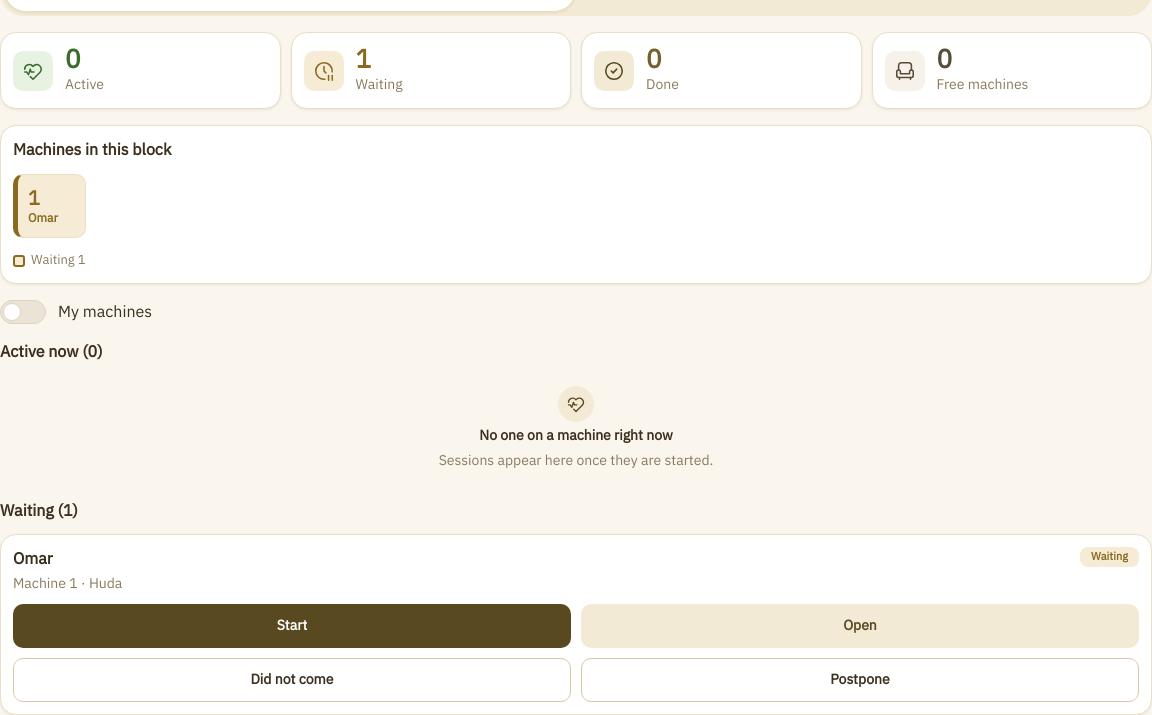
Test: BoardPage › Postpone posts and opens the make-up booking when the user may book one
(page scrolled)
Click the button "Postpone".
click(860, 680)  # box [581,658,1139,702]
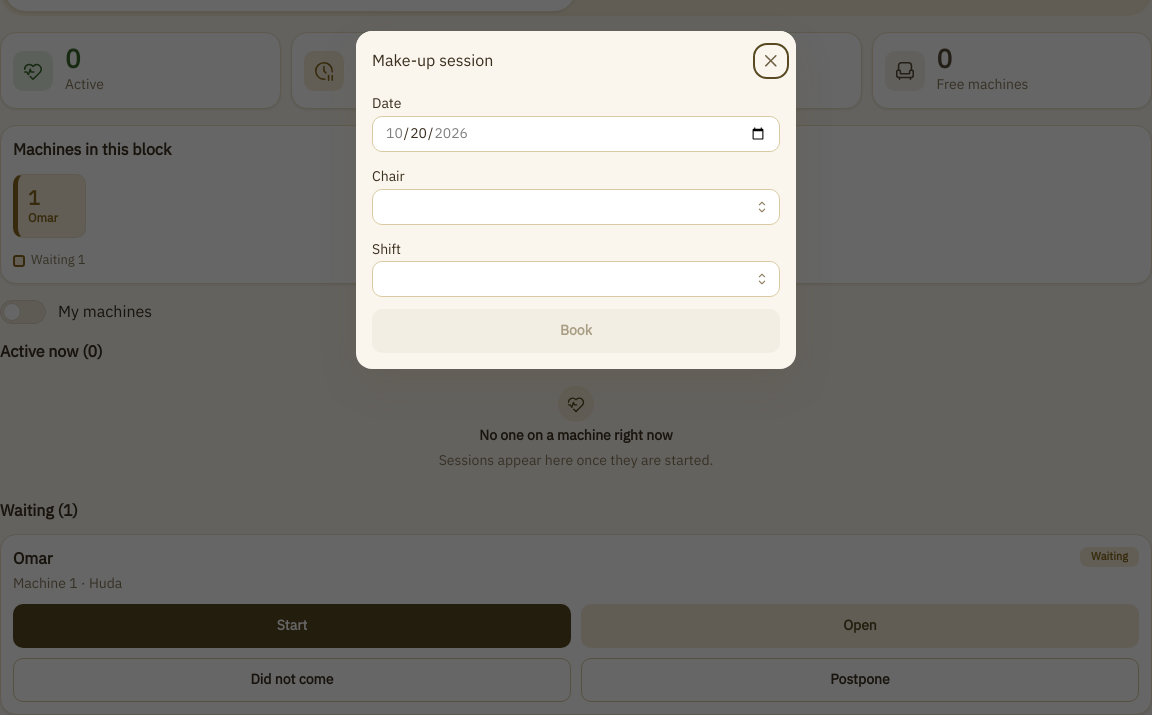
Check: the date field labelled "Date" is shown, box [372,116,780,152]
